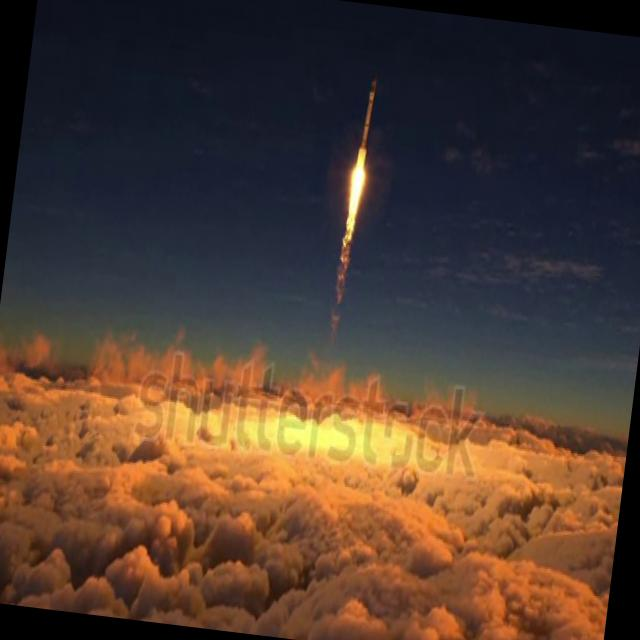rocket: (331, 81, 380, 294)
